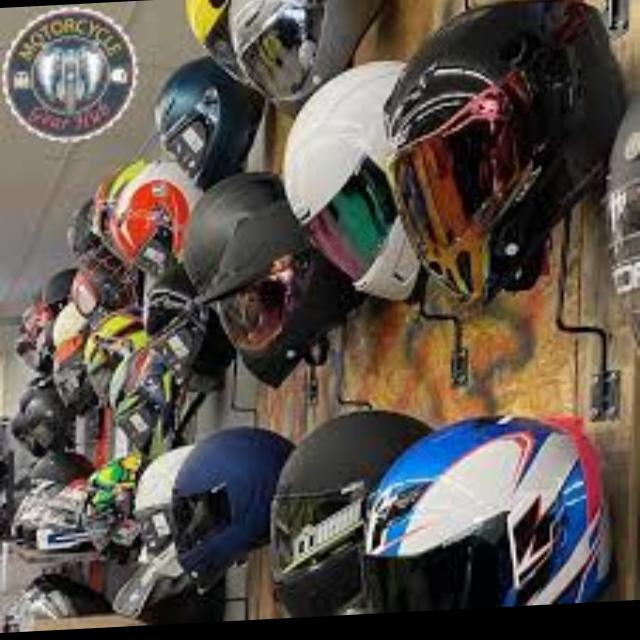motorcycle-helmets: (383, 0, 623, 296), (364, 415, 609, 606), (180, 171, 344, 385), (285, 61, 423, 297), (271, 410, 429, 615), (172, 425, 293, 583), (228, 0, 382, 100), (152, 55, 262, 188), (96, 158, 200, 272), (144, 271, 231, 389)
